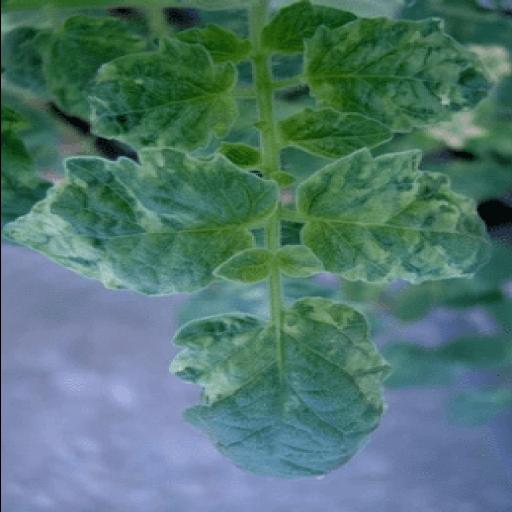Mosaic Virus: (164, 296, 398, 480), (0, 147, 282, 299), (294, 148, 498, 288), (300, 12, 499, 134), (80, 34, 248, 154)
